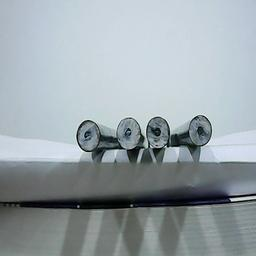pen: (75, 118, 101, 153), (187, 113, 213, 148), (146, 114, 172, 149), (115, 116, 141, 151)
